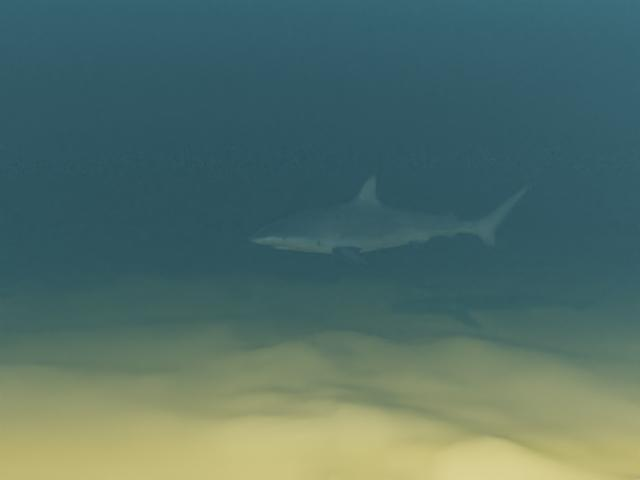Carribean Shark.001: (248, 172, 534, 271)
